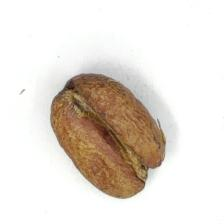NG: (56, 74, 161, 191)
